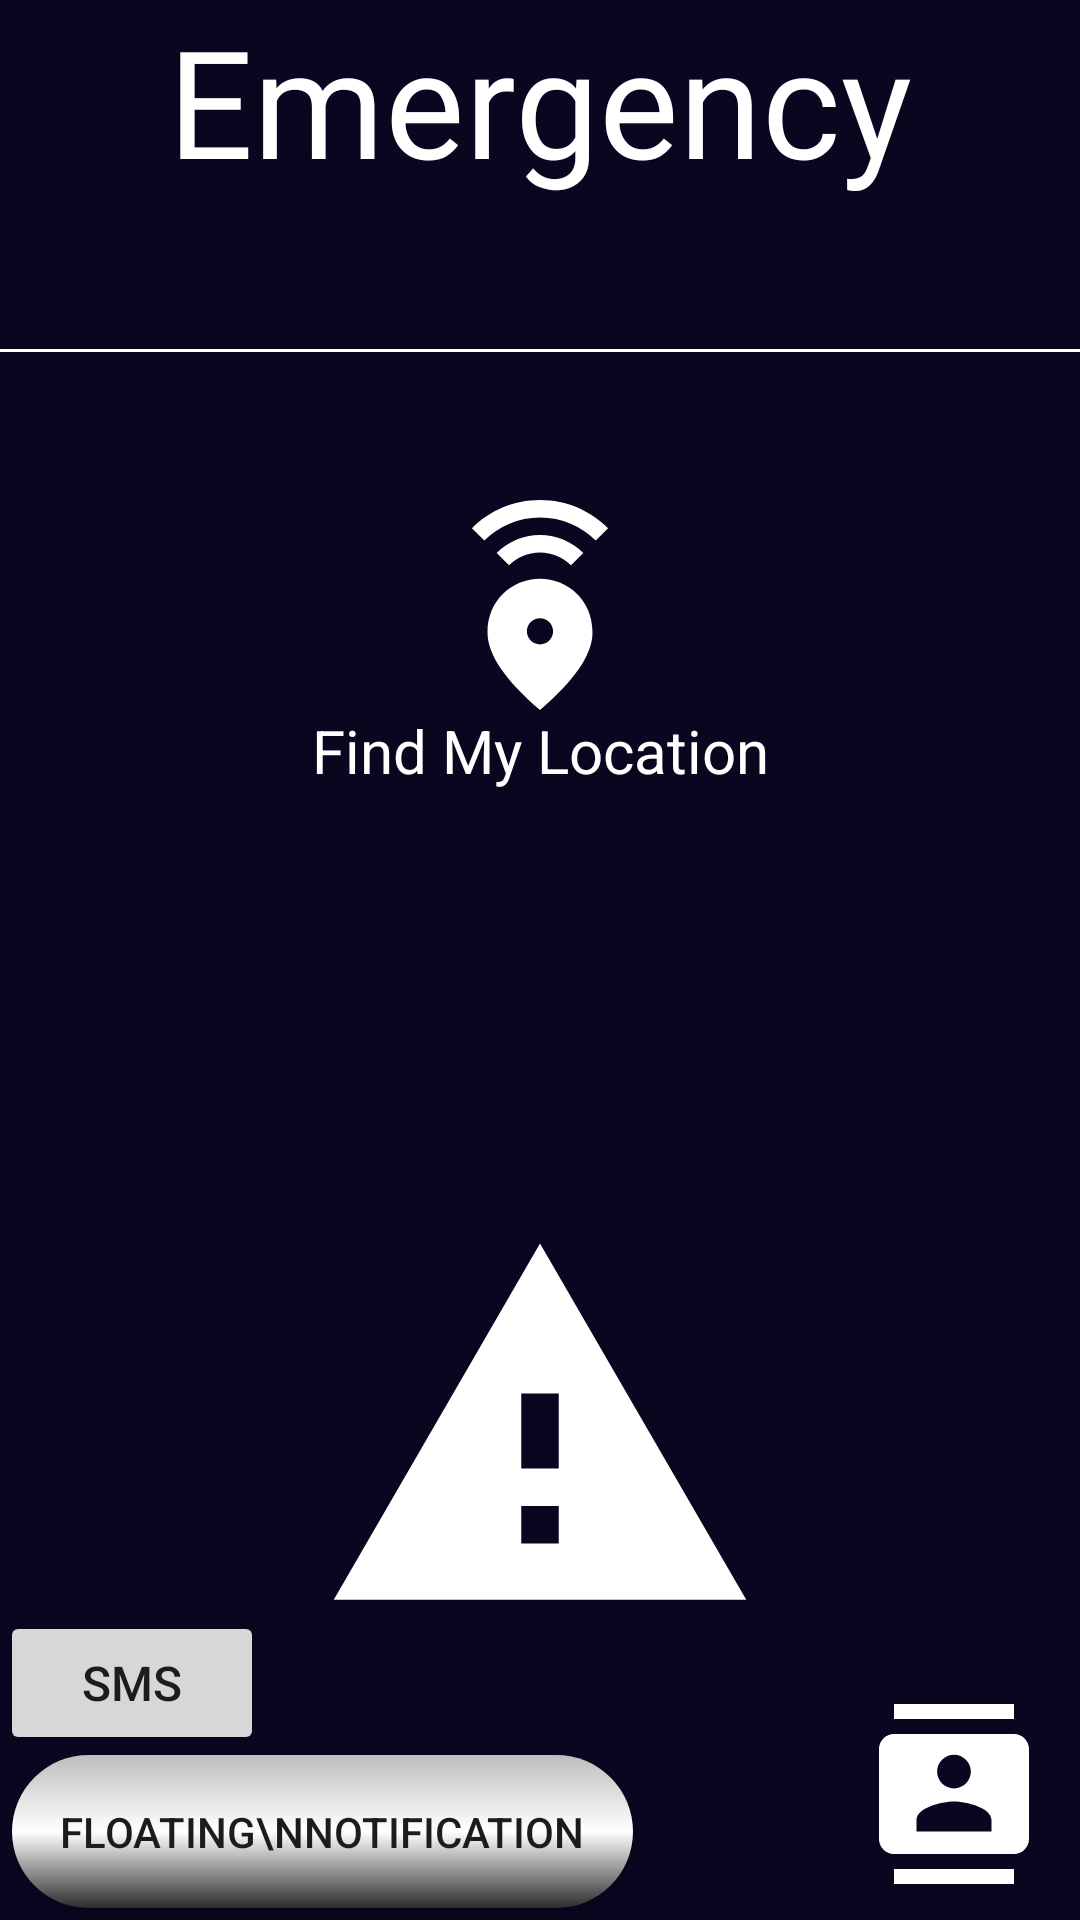

Where to tap for icons on this 1080×1920 app screen, as [x,y]:
contacts: [954,1794]
